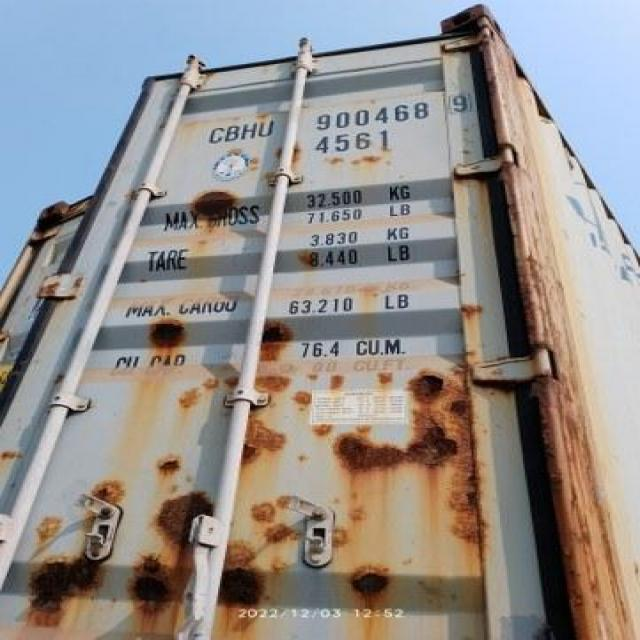ISO: (312, 128, 401, 155)
container_number: (205, 86, 478, 148)
